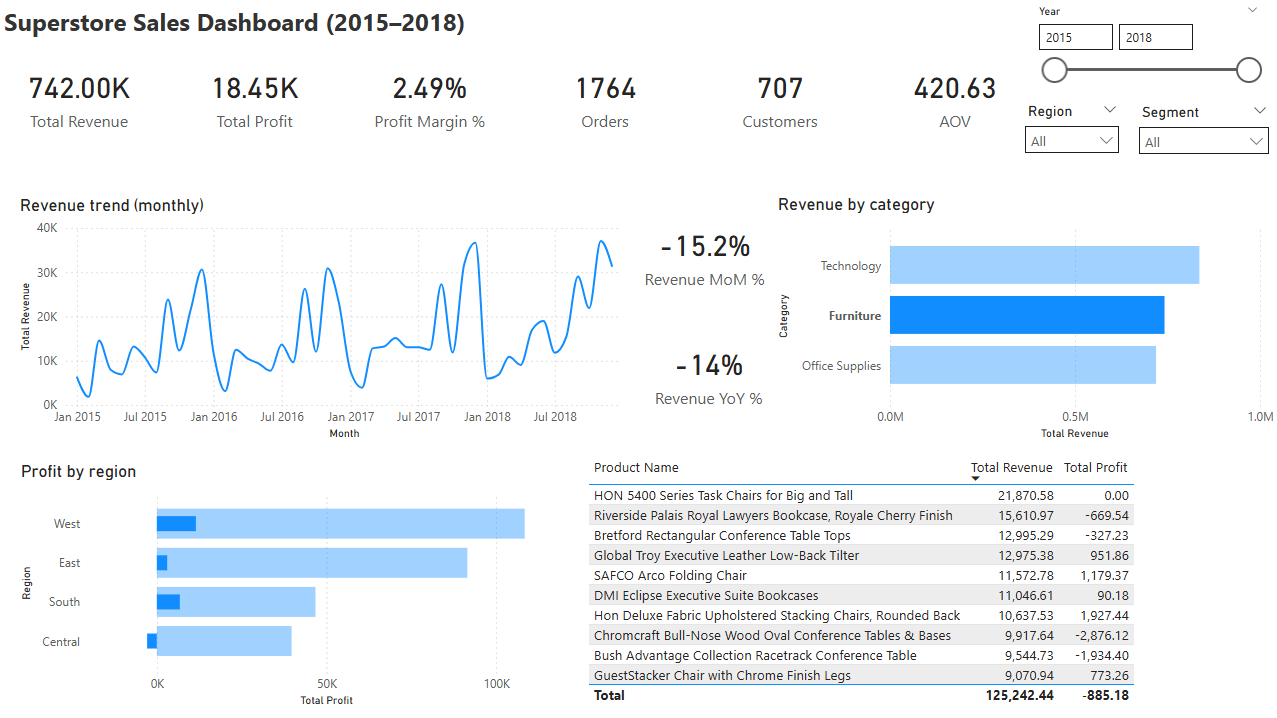

What the dashboard file says about the page in this screenshot:
{"tool":"powerbi","page":{"name":"Overview","canvas":[1280,720],"ordinal":0},"visuals":[{"type":"card","fields":{"Values":["superstore.Total Revenue"]},"box":[0.2,36.3,160,119.7],"z":0},{"type":"card","fields":{"Values":["superstore.Total Profit"]},"box":[175.7,36.3,159.6,119.7],"z":1000},{"type":"card","fields":{"Values":["superstore.Profit Margin %"]},"box":[350.8,36.3,159.6,119.7],"z":2000},{"type":"card","fields":{"Values":["superstore.Orders"]},"box":[525.9,36.3,159.6,119.7],"z":3000},{"type":"card","fields":{"Values":["superstore.Customers"]},"box":[701.1,36.3,159.6,119.7],"z":4000},{"type":"card","fields":{"Values":["superstore.AOV"]},"box":[876.2,36.3,159.6,119.7],"z":5000},{"type":"lineChart","title":"Revenue trend (monthly)","fields":{"Category":["dim_date.MonthStart"],"Y":["superstore.Total Revenue"]},"box":[16.3,195,623.9,249.4],"z":6000},{"type":"clusteredBarChart","title":"Revenue by category","fields":{"Y":["superstore.Total Revenue"],"Category":["superstore.Category"]},"box":[774.4,194.1,506,250.3],"z":7000},{"type":"clusteredBarChart","title":"Profit by region","fields":{"Y":["superstore.Total Profit"],"Category":["superstore.Region"]},"box":[17,461,567,250],"z":8000},{"type":"tableEx","fields":{"Values":["superstore.Product Name","superstore.Total Revenue","superstore.Total Profit"]},"box":[584,452,696,266],"z":9000},{"type":"card","fields":{"Values":["dim_date.Revenue MoM % (Latest)"]},"box":[640.2,195,130.6,118.8],"z":10000},{"type":"card","fields":{"Values":["dim_date.Revenue YoY % (Latest)"]},"box":[644.7,313.8,129.7,118.8],"z":11000},{"type":"slicer","fields":{"Values":["dim_date.Year"]},"box":[1027,0,244,99],"z":12000},{"type":"slicer","fields":{"Values":["superstore.Region"]},"box":[1016,98,114,96],"z":13000},{"type":"slicer","fields":{"Values":["superstore.Segment"]},"box":[1130,99,150,96],"z":14000},{"type":"textbox","box":[0,0,955.8,44.4],"z":15000}]}

Visuals, with their boxes in screenshot pixels (x1, y1, x2, y2), scaled from the page's 1280x720 canvas onto the 1277x718 screenshot:
card - superstore.Total Revenue: locate(0, 36, 160, 156)
card - superstore.Total Profit: locate(175, 36, 335, 156)
card - superstore.Profit Margin %: locate(350, 36, 509, 156)
card - superstore.Orders: locate(525, 36, 684, 156)
card - superstore.Customers: locate(699, 36, 859, 156)
card - superstore.AOV: locate(874, 36, 1033, 156)
"Revenue trend (monthly)" lineChart: locate(16, 194, 639, 443)
"Revenue by category" clusteredBarChart: locate(773, 194, 1276, 443)
"Profit by region" clusteredBarChart: locate(17, 460, 583, 709)
tableEx - superstore.Product Name x superstore.Total Revenue: locate(583, 451, 1276, 716)
card - dim_date.Revenue MoM % (Latest): locate(639, 194, 769, 313)
card - dim_date.Revenue YoY % (Latest): locate(643, 313, 773, 431)
slicer - dim_date.Year: locate(1025, 0, 1268, 99)
slicer - superstore.Region: locate(1014, 98, 1127, 193)
slicer - superstore.Segment: locate(1127, 99, 1276, 194)
textbox: locate(0, 0, 954, 44)
